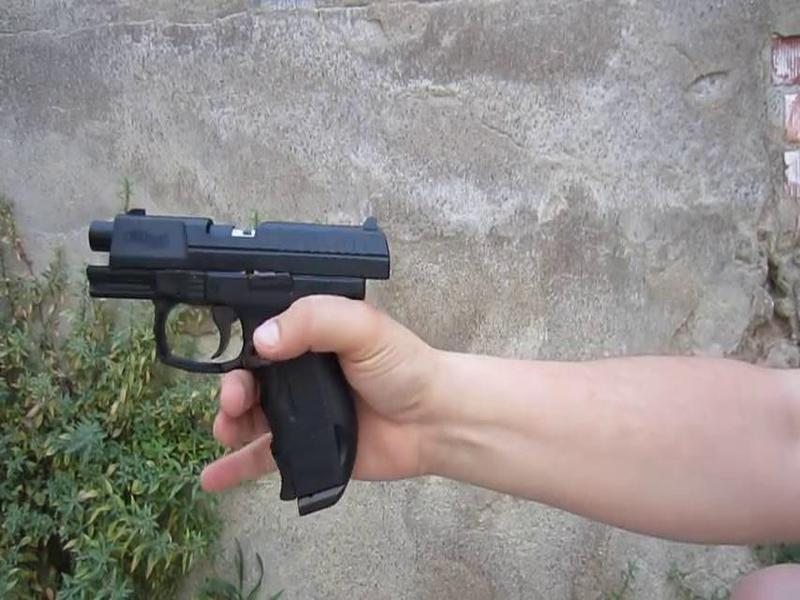Pistola: (60, 178, 403, 513)
